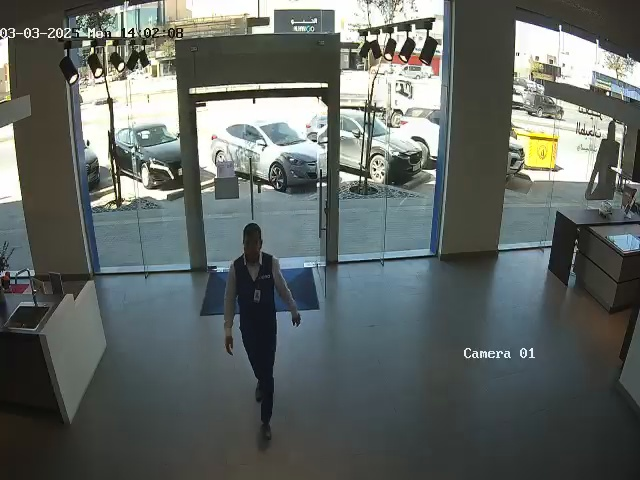employee: (223, 222, 302, 440)
